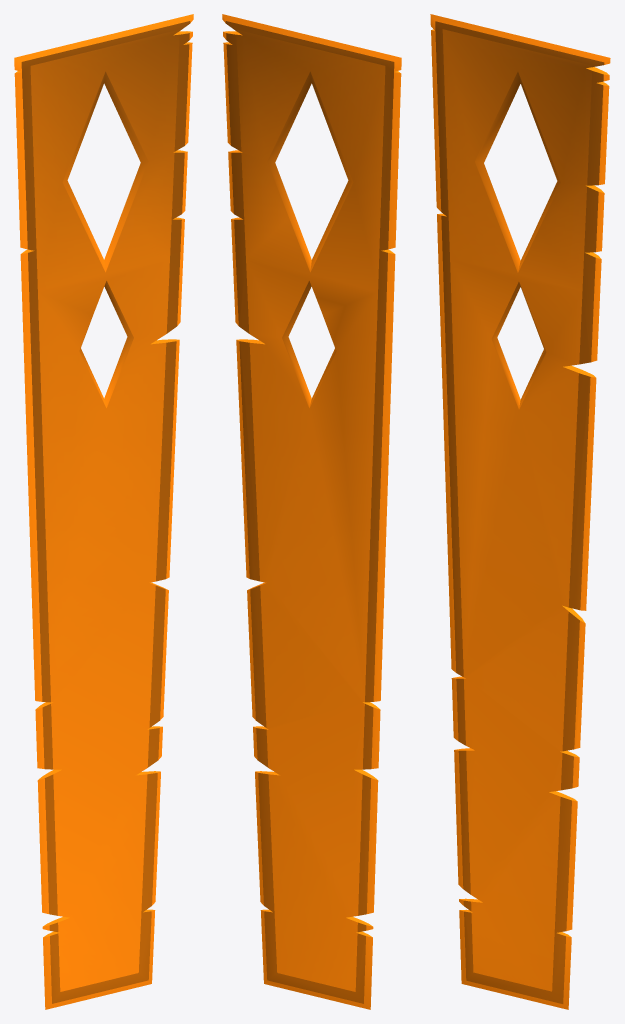
File: bronze_blade_scratched_040.glb
3 views of the same model, side by side, from view 1: azimuth 30°, elevation 25°; view 2: azimuth 150°, elevation 25°; view 3: azimuth 330°, elevation 25° (orthographic).
Parts seen in each view (by area): view 1: bronze_blade_scratched.040; view 2: bronze_blade_scratched.040; view 3: bronze_blade_scratched.040.
Part boxes in pixels (x1=…): bronze_blade_scratched.040: x1=14, y1=14, x2=193, y2=1009; bronze_blade_scratched.040: x1=222, y1=14, x2=401, y2=1009; bronze_blade_scratched.040: x1=430, y1=14, x2=610, y2=1009.
Bounding box in the file's own units: 2.19 × 11.21 × 0.0882.
1 material, 1 textured.
